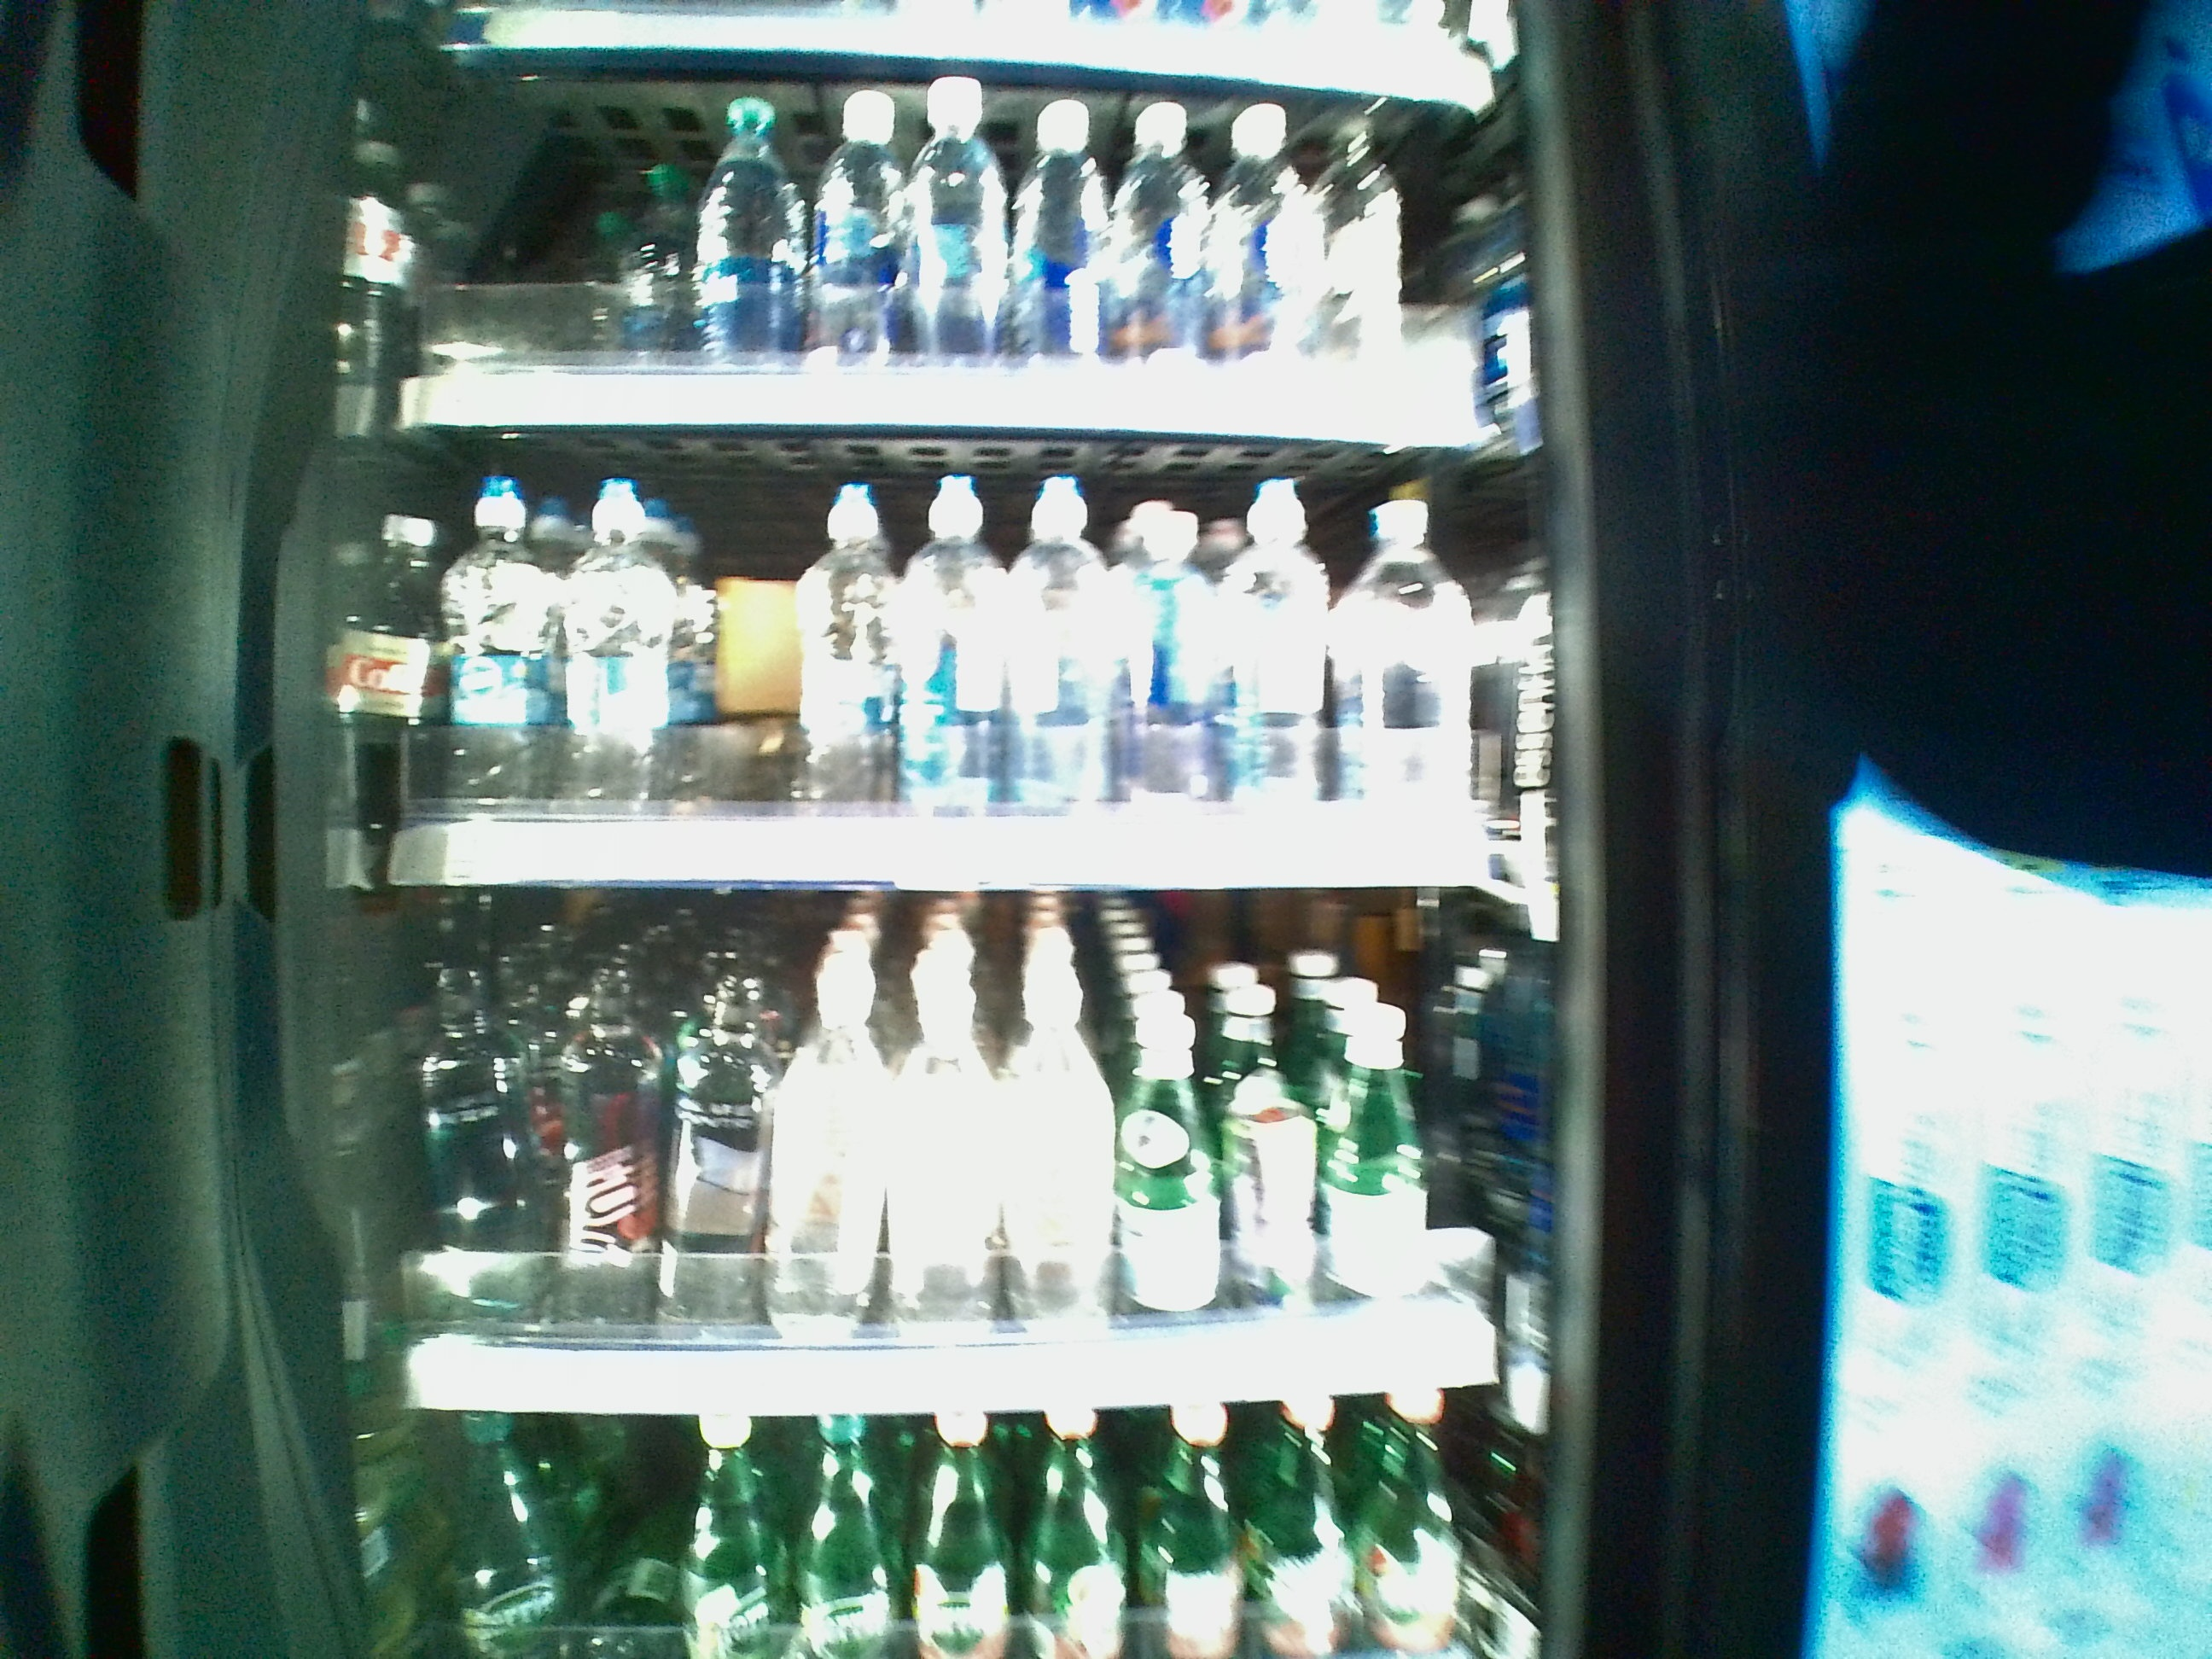shelf: (376, 897, 1533, 1419), (376, 427, 1538, 894)
